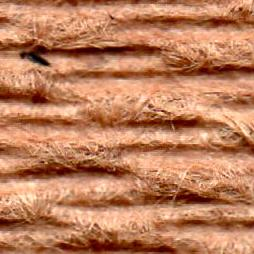egg: (22, 52, 49, 64)
